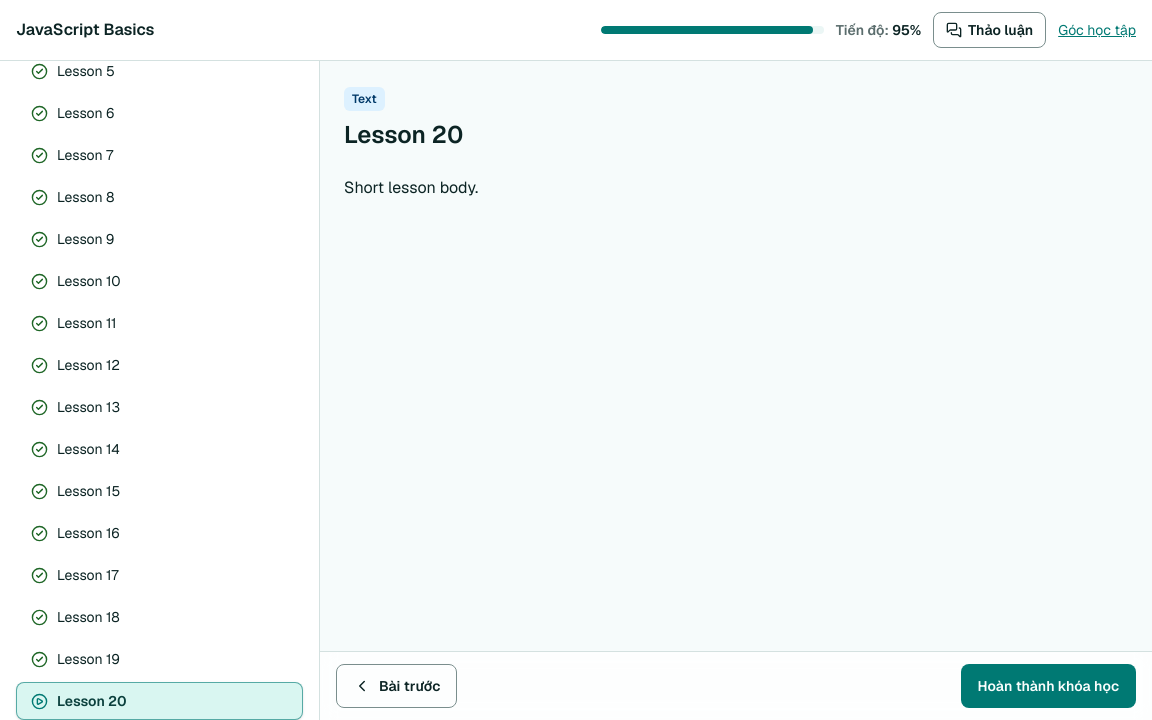
learning page progress synchronization › celebrates instead of routing when the last lesson finishes the course
(page scrolled)
expect the element with test id "course-progress" shows "95%": met, box [601,20,921,40]
Click the button "Hoàn thành khóa học".
click(1048, 686)  # box [960,664,1136,708]
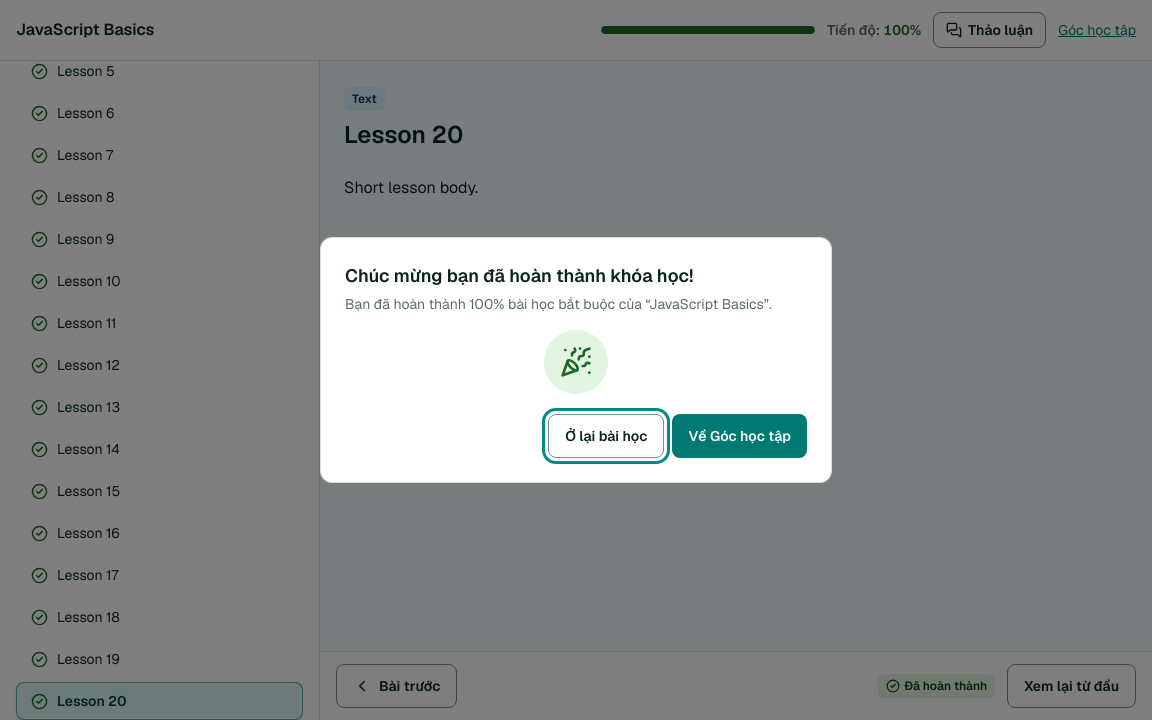
expect the heading "Chúc mừng bạn đã hoàn thành khóa học!" is shown: met, box [345,264,693,287]
expect the element with test id "course-progress" shows "100%": met, box [601,20,921,40]
